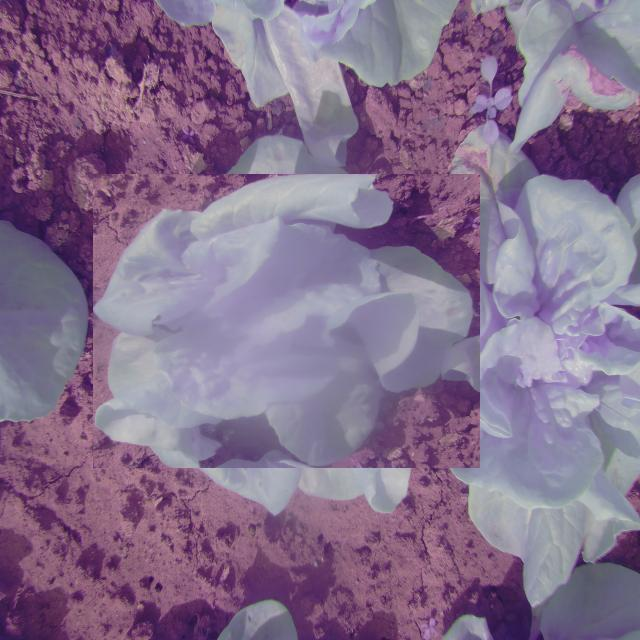vege: (116, 151, 457, 492)
